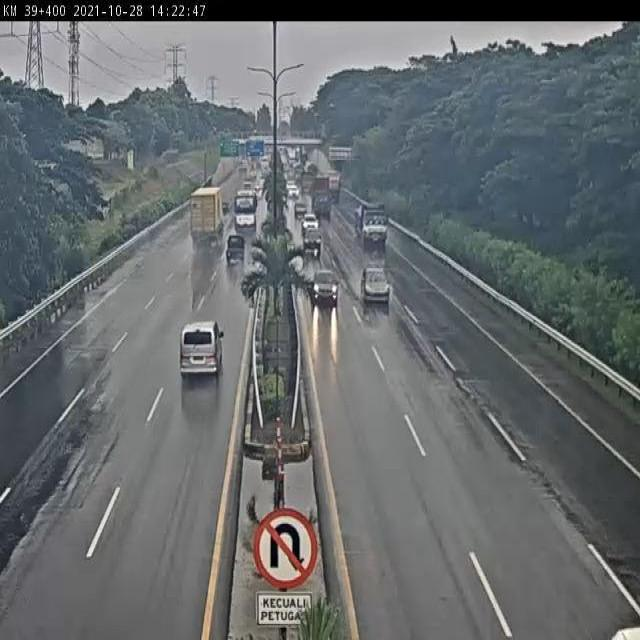car: (179, 320, 225, 384), (309, 268, 341, 315), (225, 235, 247, 265)
truck-l-: (353, 201, 391, 252)
truck-xl-: (191, 184, 229, 253)
